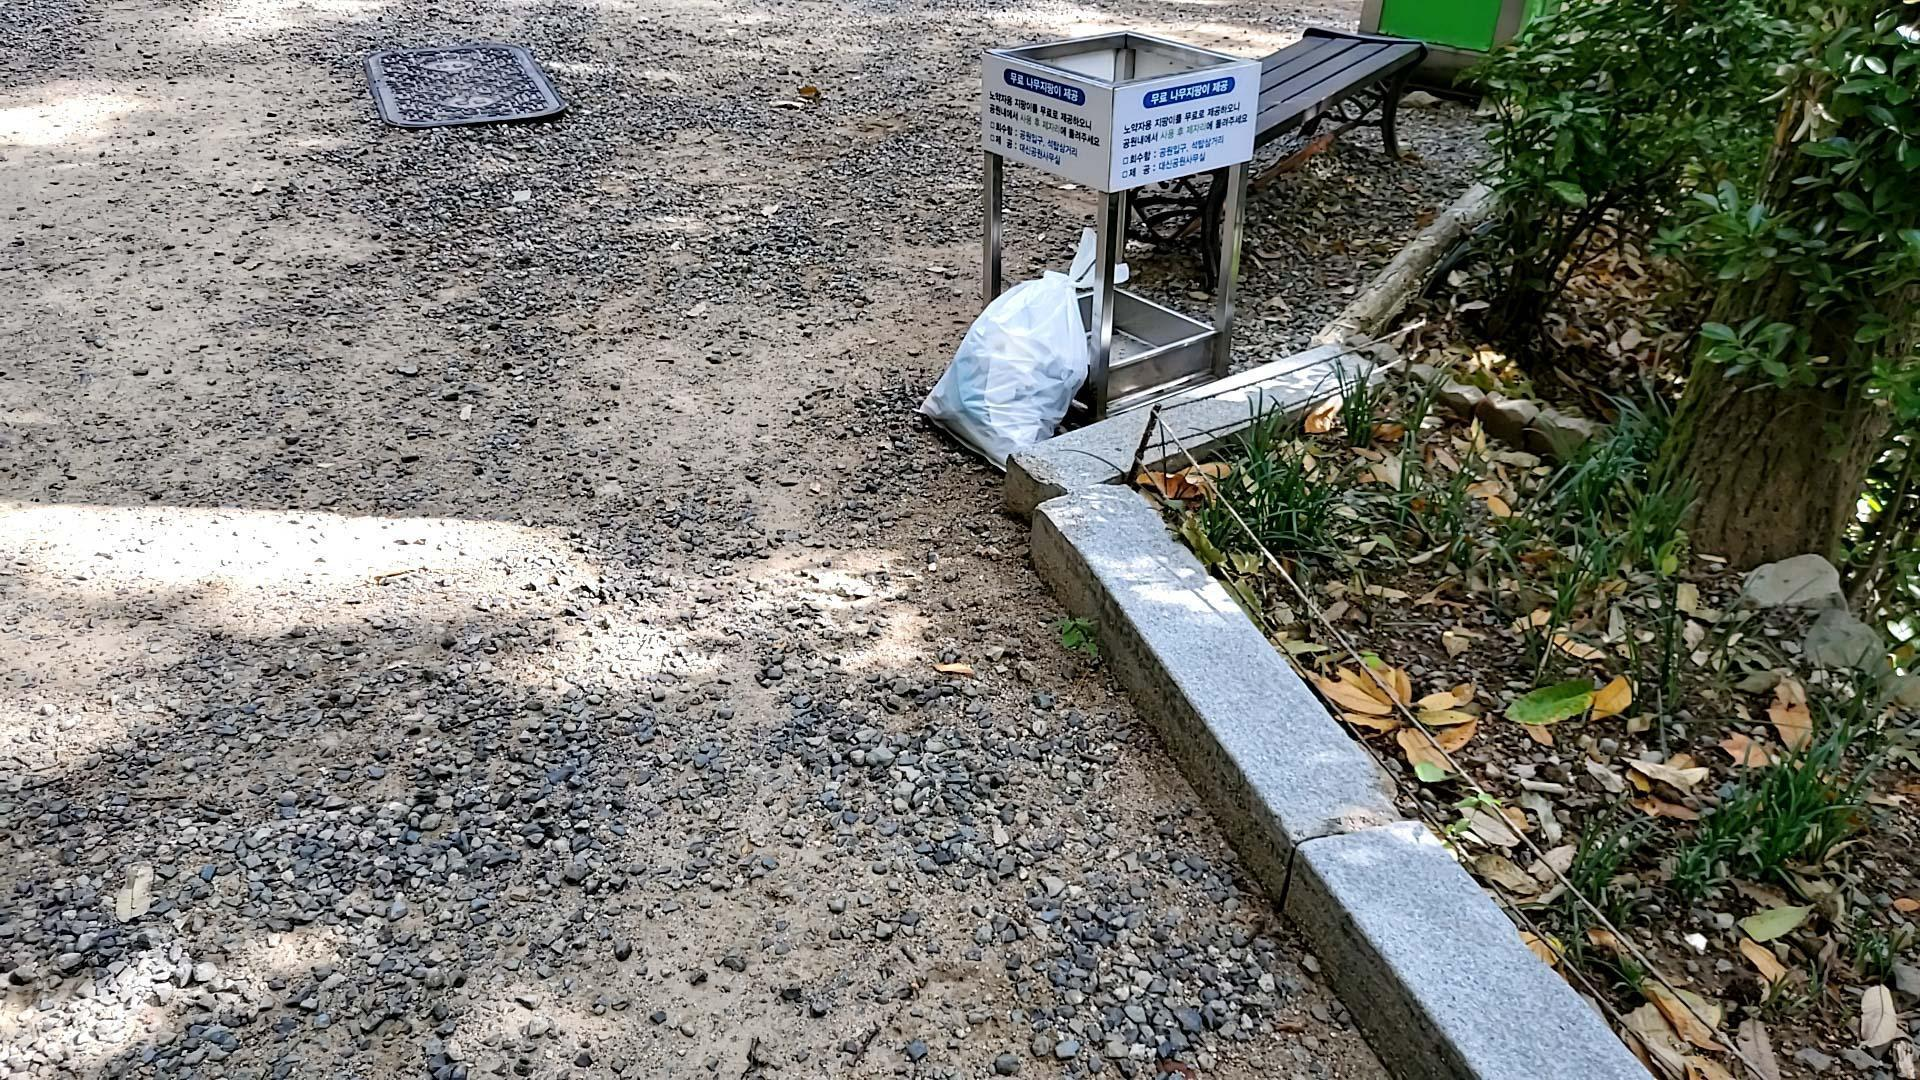white_bag: (897, 229, 1145, 485)
